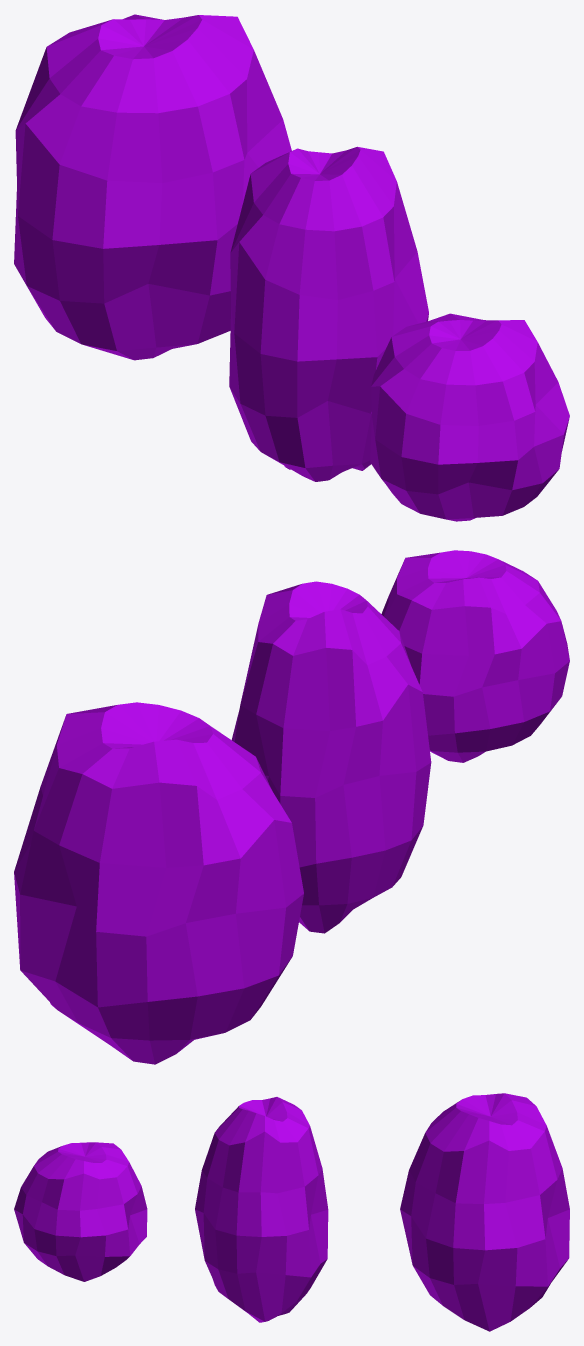
File: Rocks.fbx
3 views of the same model, one above another, from view 1: azimuth 30°, elevation 25°; view 2: azimuth 150°, elevation 25°; view 3: azimuth 270°, elevation 25° (orthographic). The views are drawn at different scales.
Parts seen in each view (by area): view 1: Rock3, Rock2, Rock; view 2: Rock3, Rock2, Rock; view 3: Rock3, Rock2, Rock.
Part boxes in pixels (left/top/right/bottom): Rock3: left=14, top=14, right=291, bottom=360; Rock2: left=229, top=146, right=428, bottom=481; Rock: left=370, top=313, right=569, bottom=521; Rock3: left=14, top=702, right=303, bottom=1064; Rock2: left=231, top=581, right=431, bottom=933; Rock: left=381, top=550, right=569, bottom=762; Rock3: left=400, top=1093, right=569, bottom=1331; Rock2: left=195, top=1097, right=328, bottom=1322; Rock: left=14, top=1142, right=147, bottom=1281.
Bounding box in the file's own units: 290 × 342 × 822.
